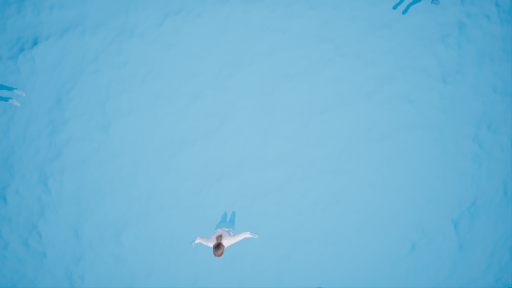person: (191, 213, 264, 256)
